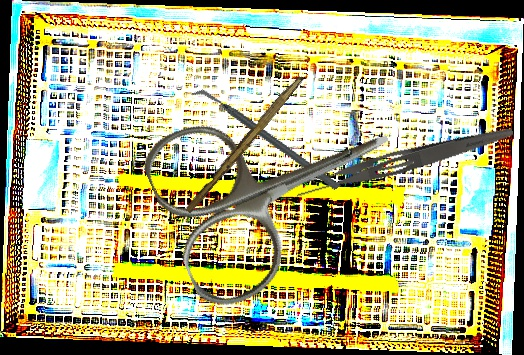Chopper: (190, 52, 342, 228)
Dressing Forceps: (291, 116, 516, 203)
Iris Scissors: (135, 55, 424, 317)
Scalpel Handle: (183, 71, 305, 217)
